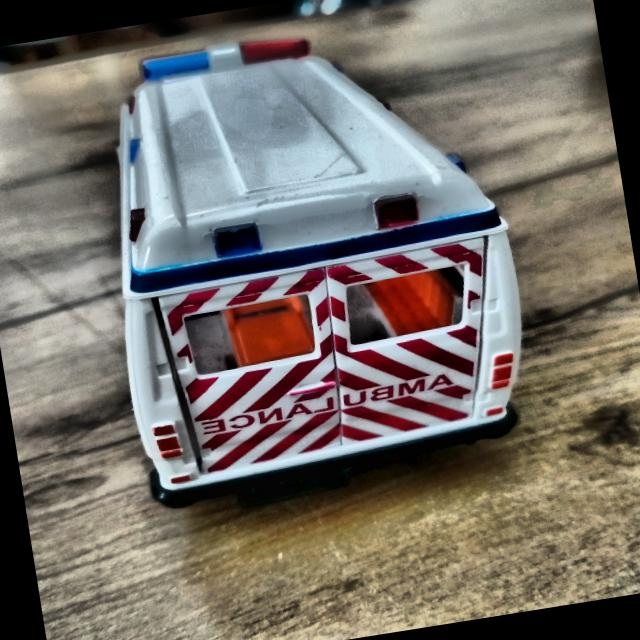Ambulance: (53, 0, 551, 556)
